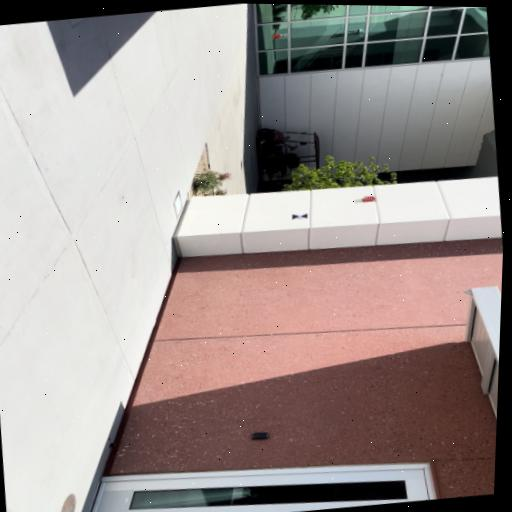target6: (292, 213, 308, 220)
